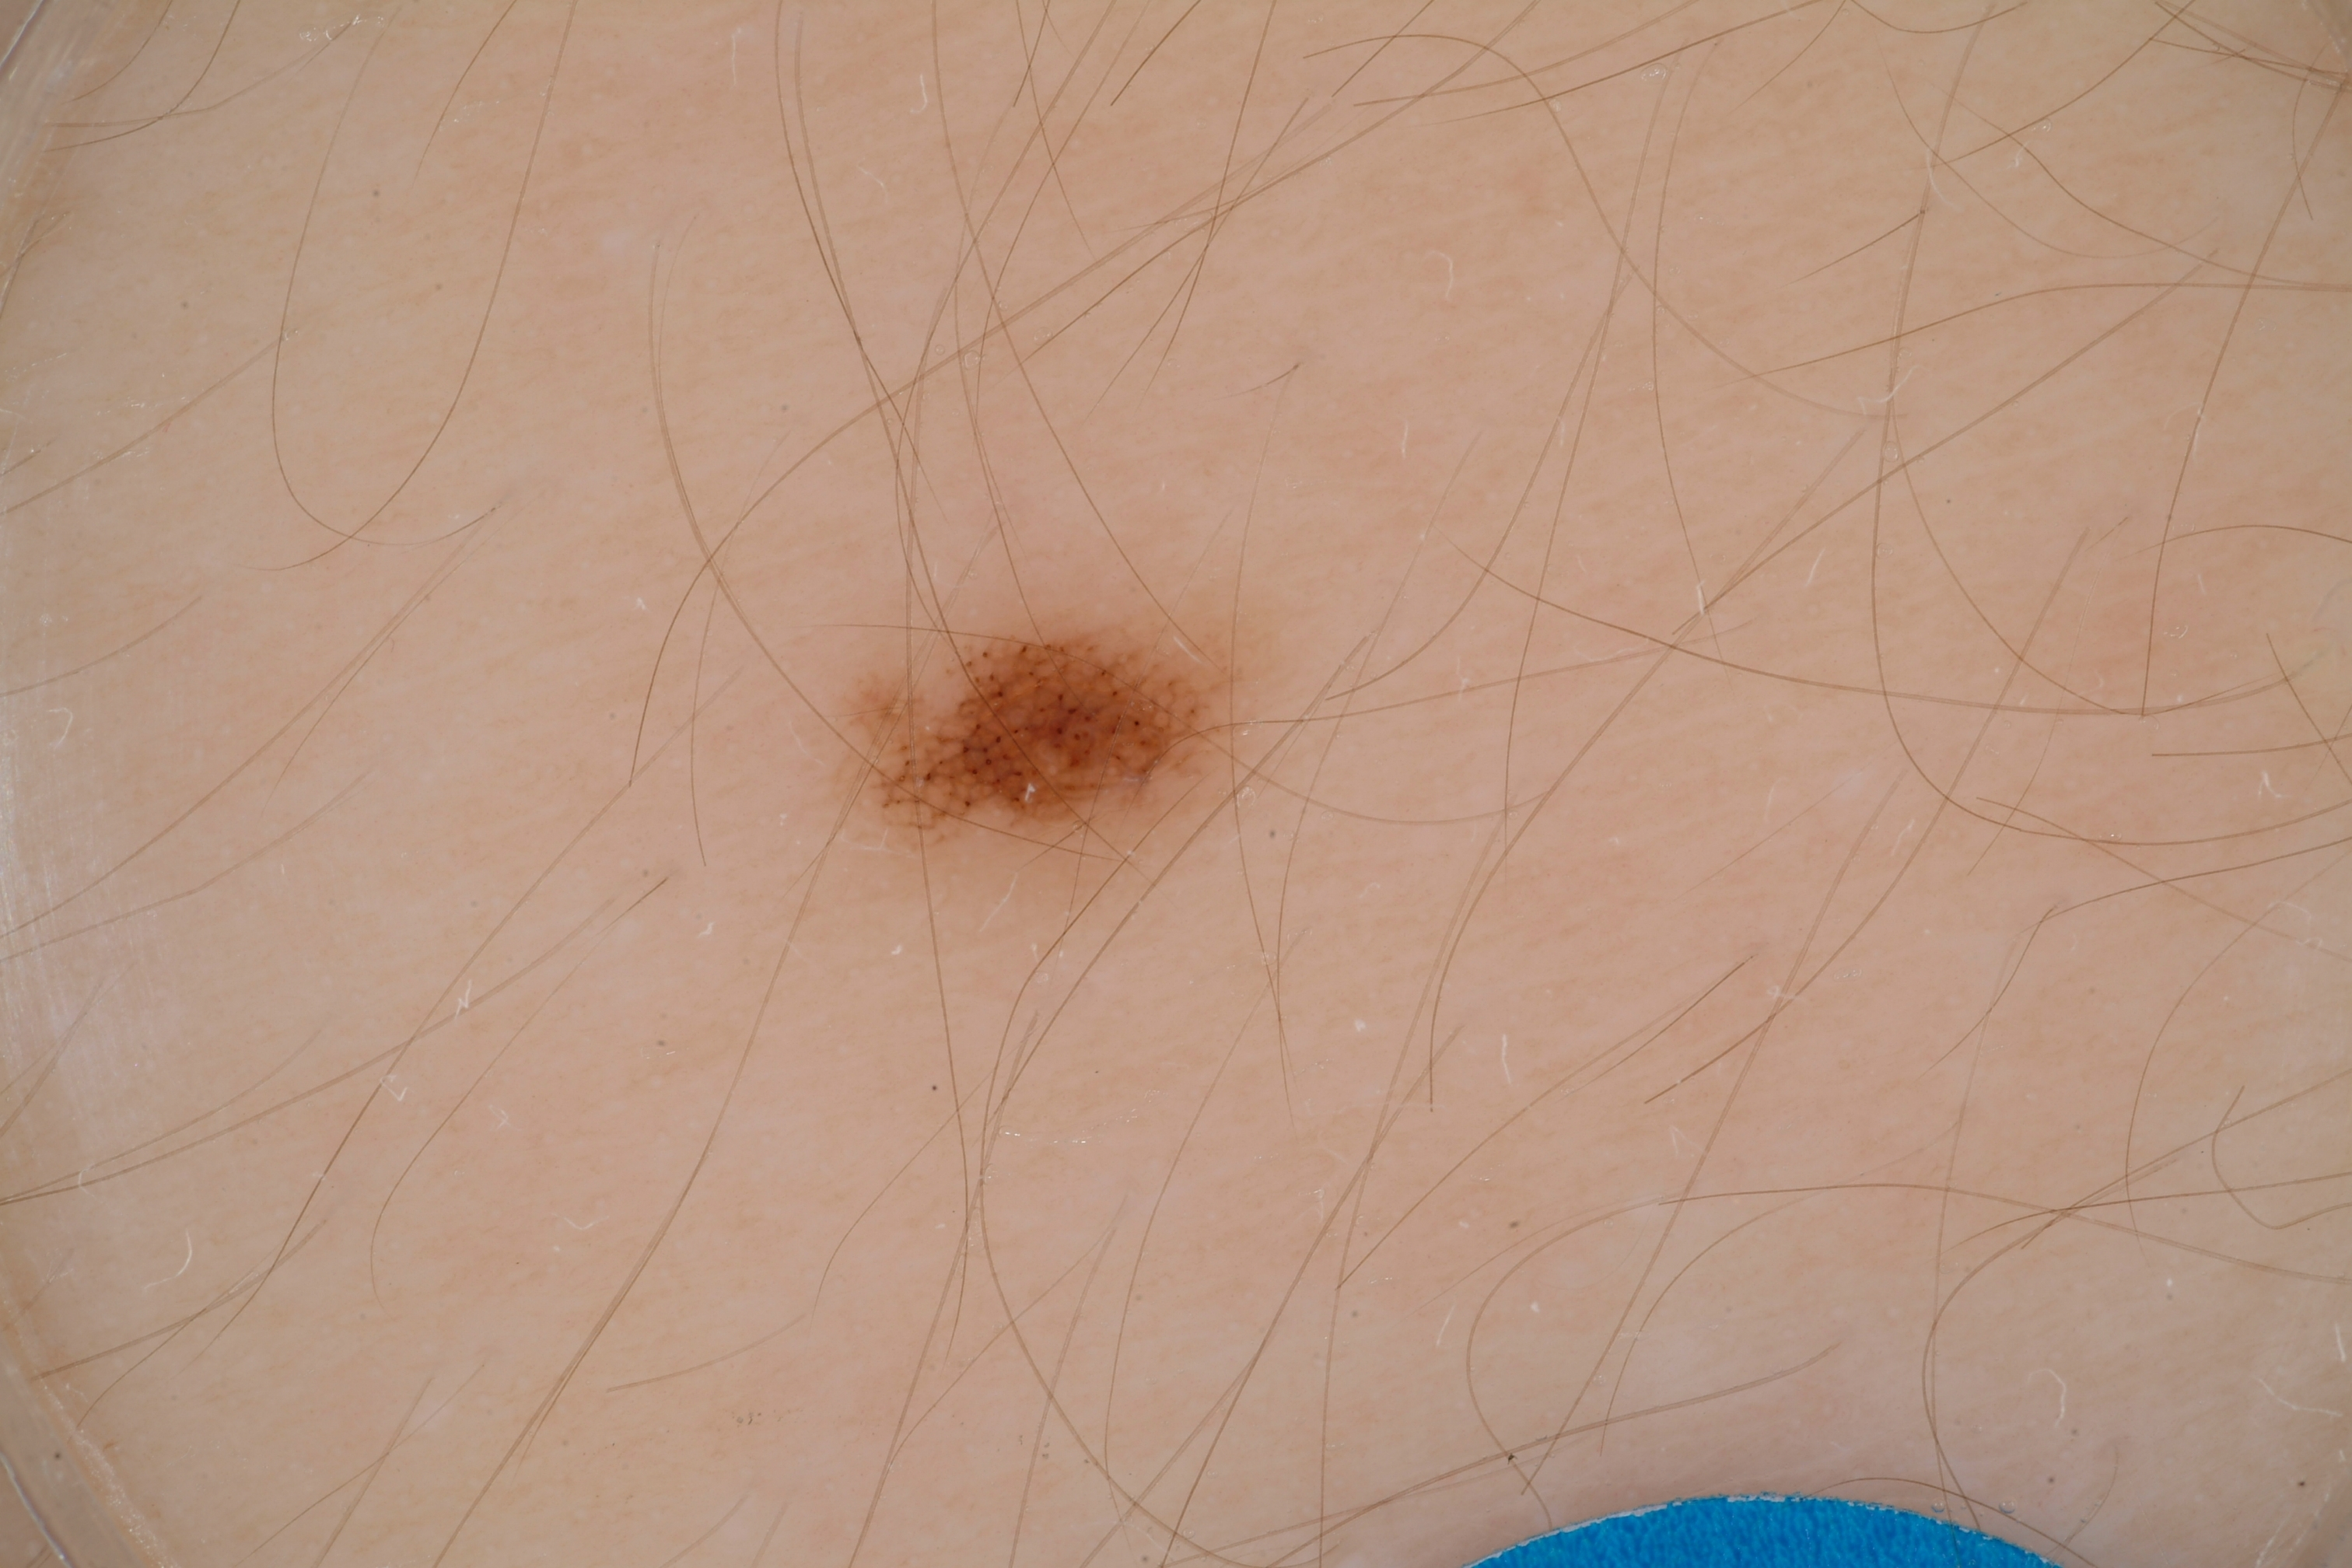Detected Lesion: (835, 614, 1235, 859)
